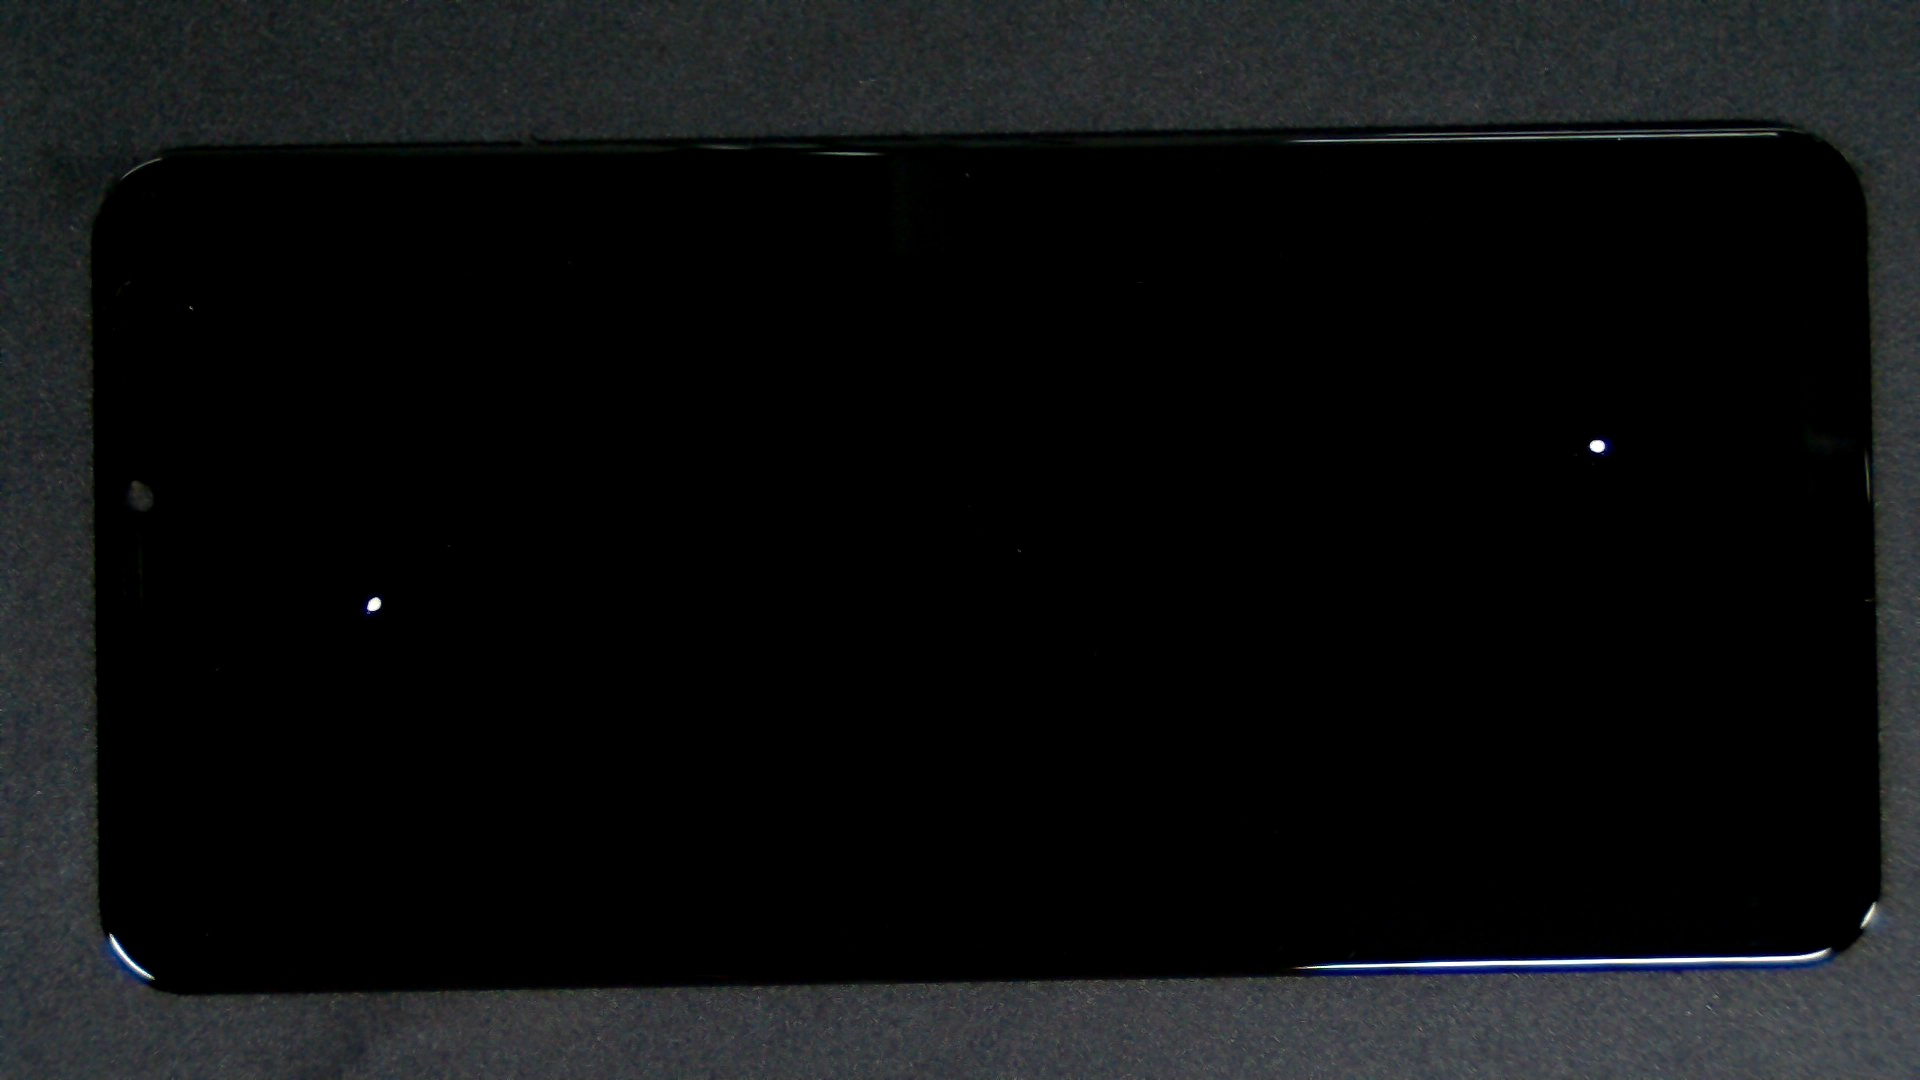oil: (796, 219, 1920, 658), (190, 298, 567, 894)
